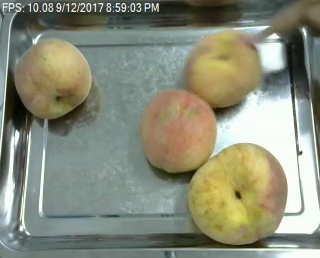Peach: (186, 143, 286, 244), (139, 89, 219, 173), (14, 37, 91, 119), (184, 29, 261, 108)
